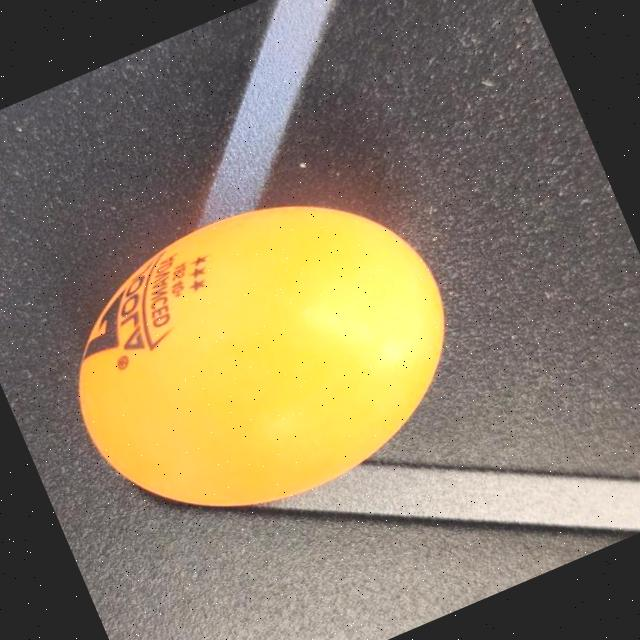ping-pong-ball: (13, 134, 496, 574)
